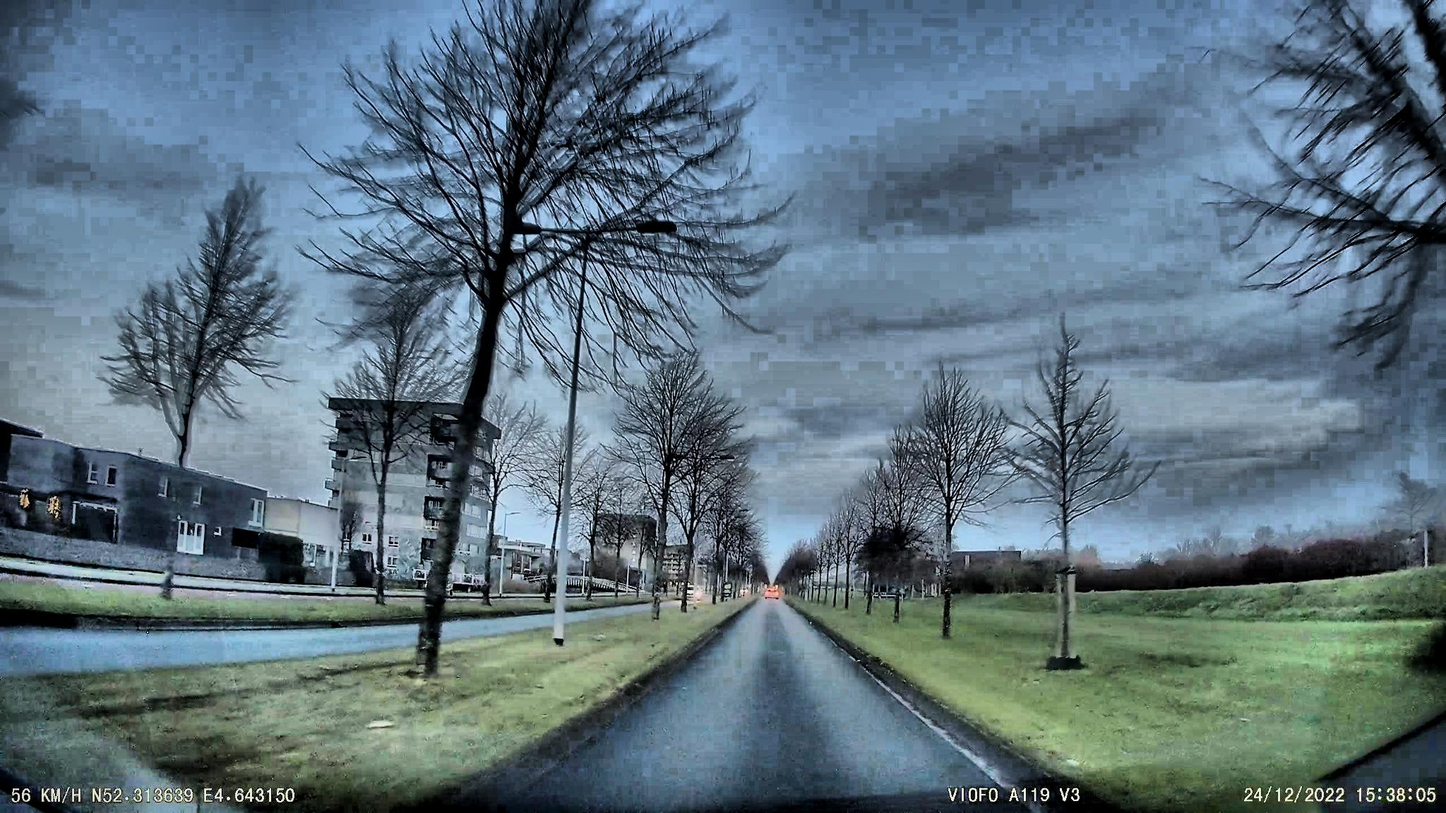Roads: (461, 601, 1030, 813)
